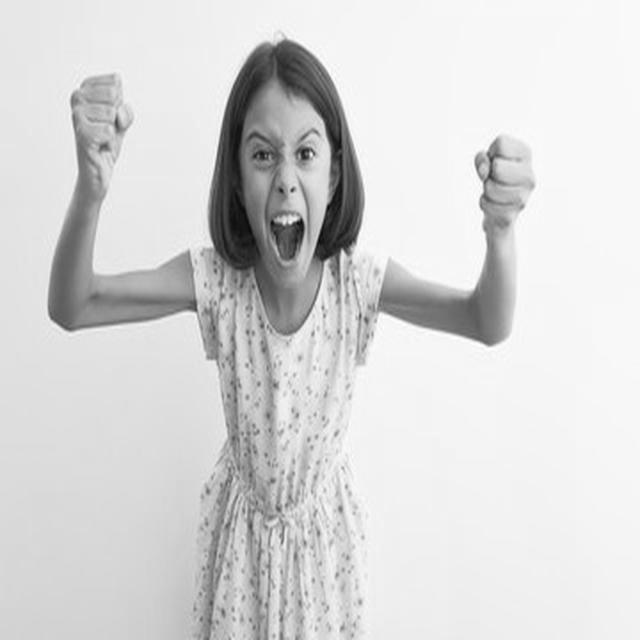Angry: (241, 92, 332, 289)
